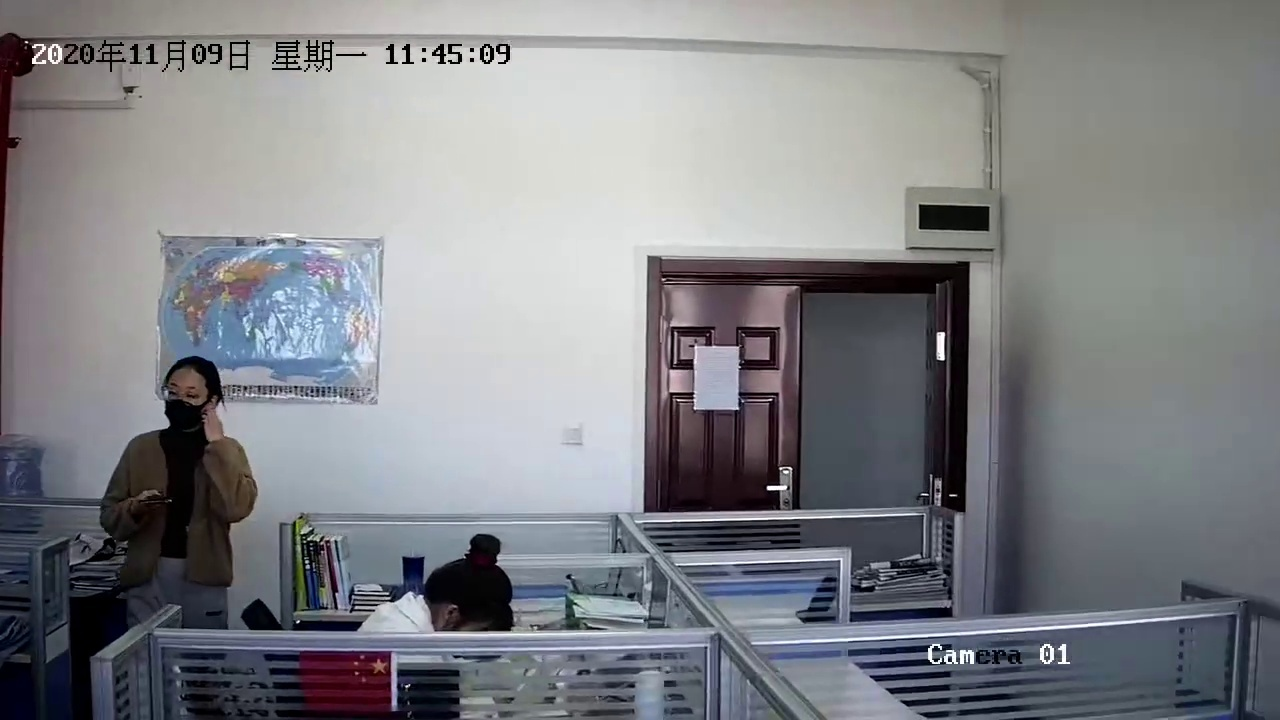mask: (157, 354, 216, 433)
